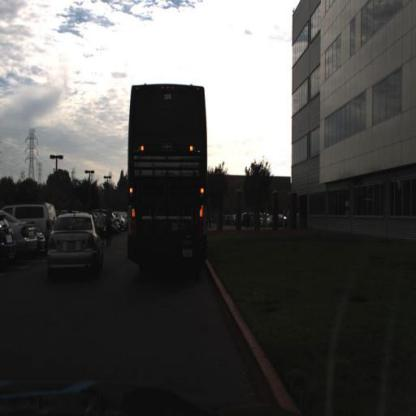car: (127, 80, 210, 277), (47, 212, 109, 283), (19, 215, 40, 261), (1, 212, 17, 269), (259, 208, 274, 226)
truck: (125, 82, 211, 261)
